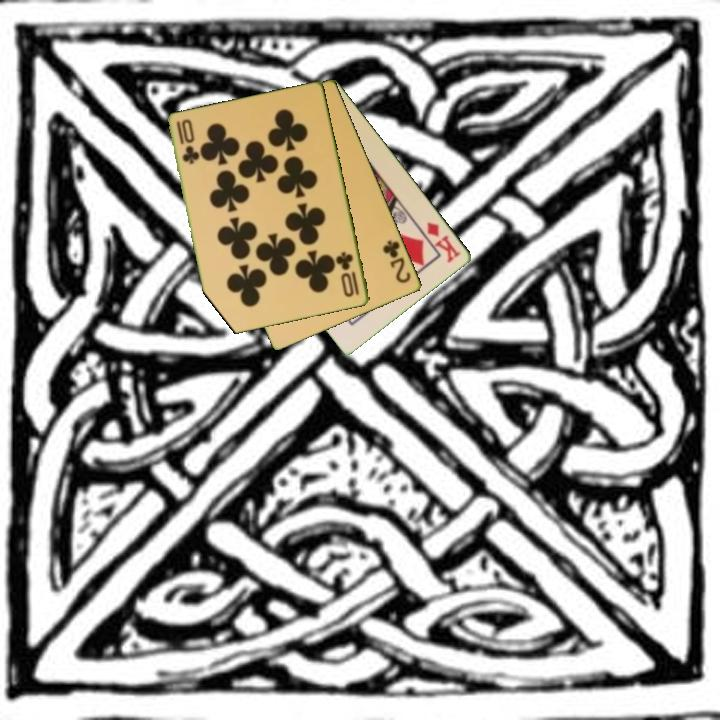10c: (334, 248, 362, 300), (173, 116, 201, 167)
2c: (380, 236, 414, 286)
Kd: (424, 218, 464, 266)
